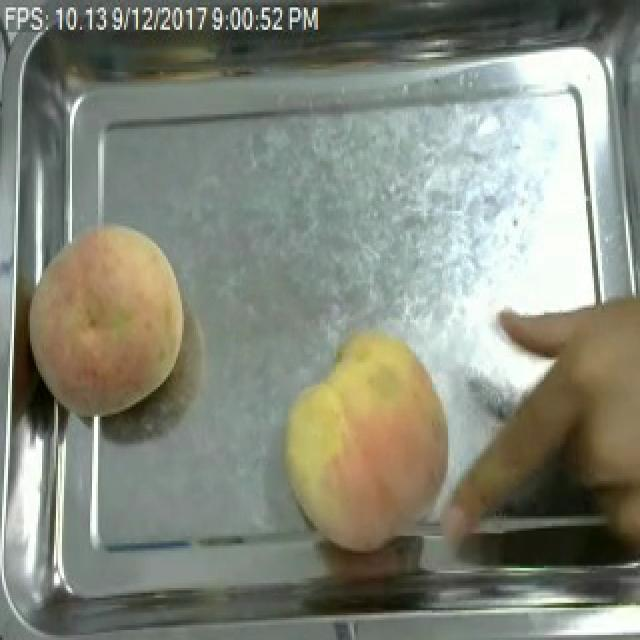Fruit: (270, 318, 468, 558), (466, 275, 640, 531), (14, 211, 192, 427)
